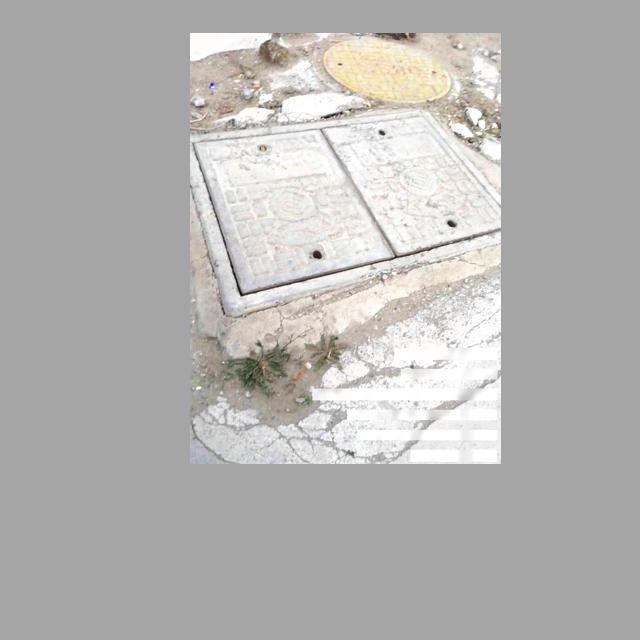good: (190, 108, 501, 316), (322, 37, 453, 103)
